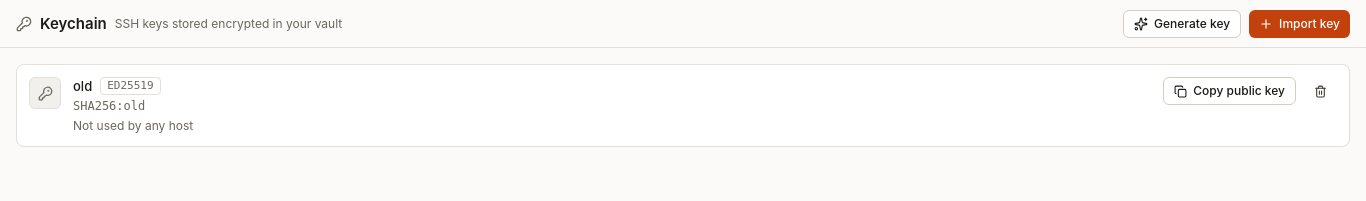
KeychainView › deletes after a confirming second click
The image size is (1366, 201).
Click the button named "Delete old" at (1320, 91), box [1304,77,1337,105]
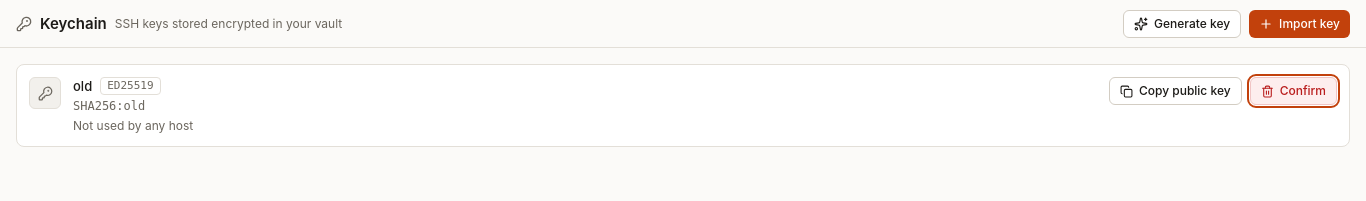
Click the button with aria-label "Delete old" at (1293, 91), box [1250,77,1337,105]
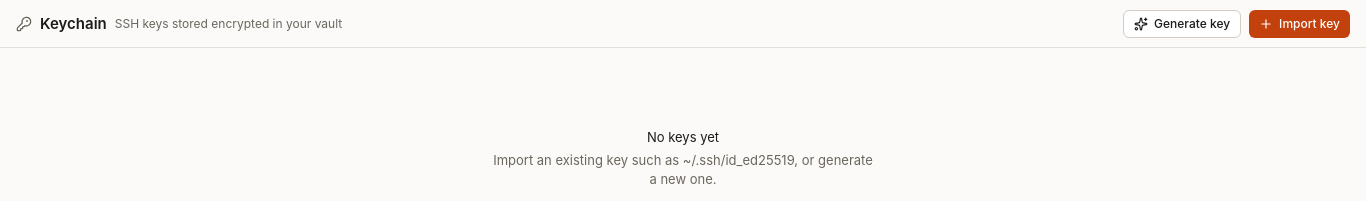
Check: the list item "old" is gone
